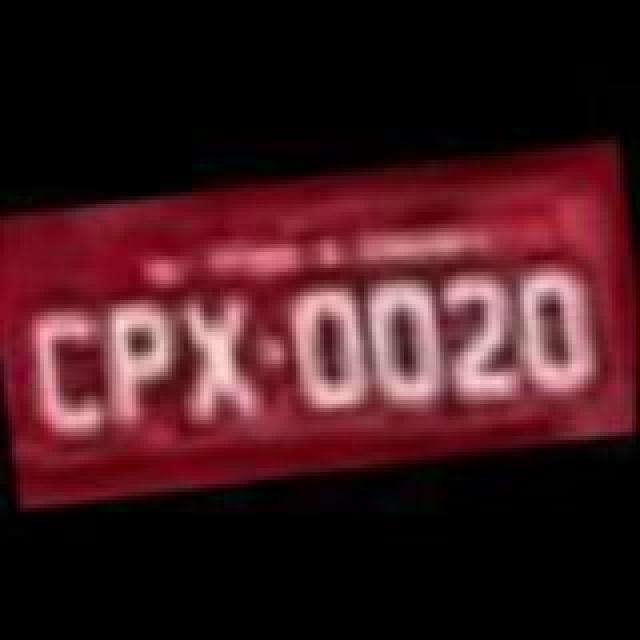2: (432, 256, 532, 408)
C: (24, 302, 116, 442)
O: (276, 272, 376, 416), (508, 252, 608, 392), (354, 272, 450, 412)
P: (96, 290, 188, 426)
X: (176, 288, 268, 424)
